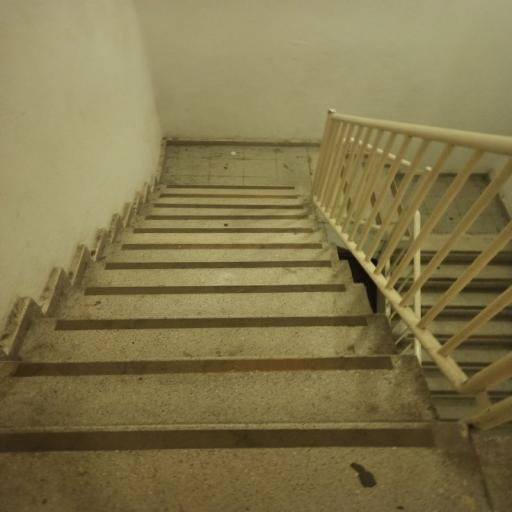laptop: (0, 179, 489, 512), (399, 235, 512, 429)
